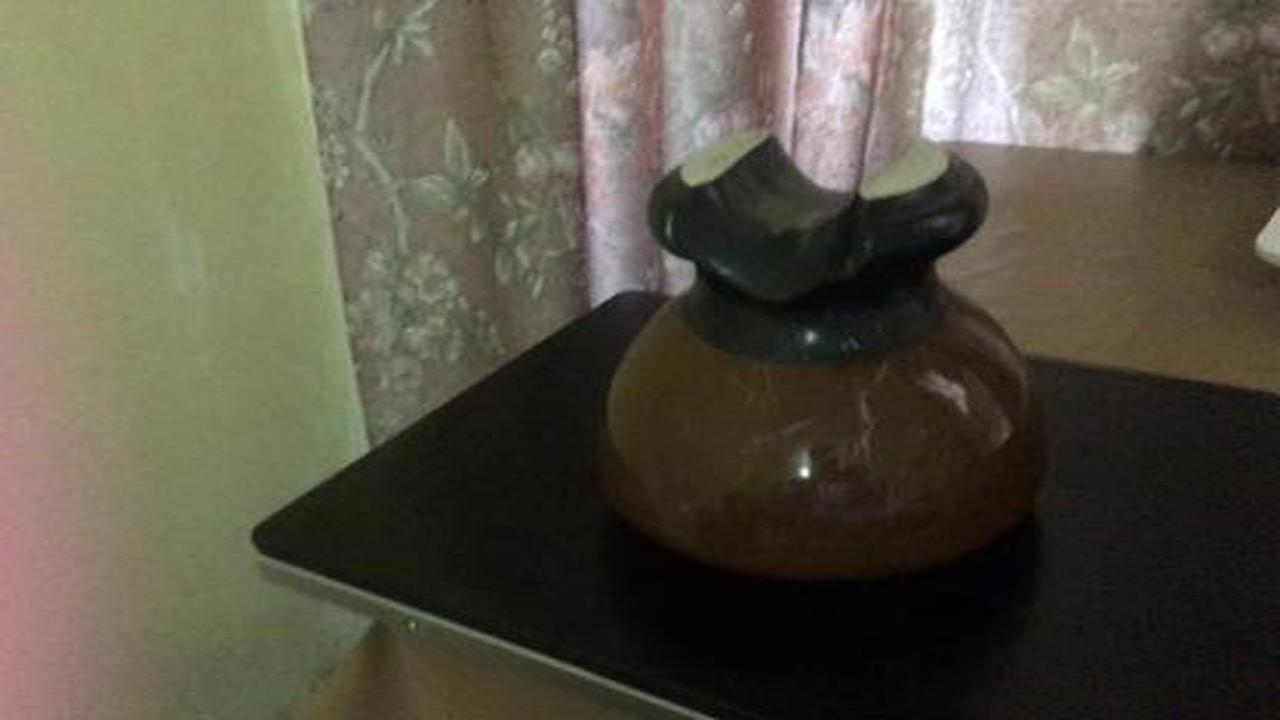insulator_pin: (591, 113, 1059, 599)
